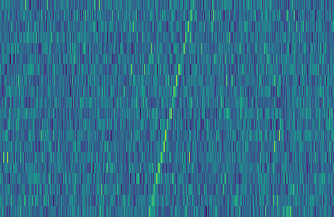signal: (144, 0, 199, 217)
